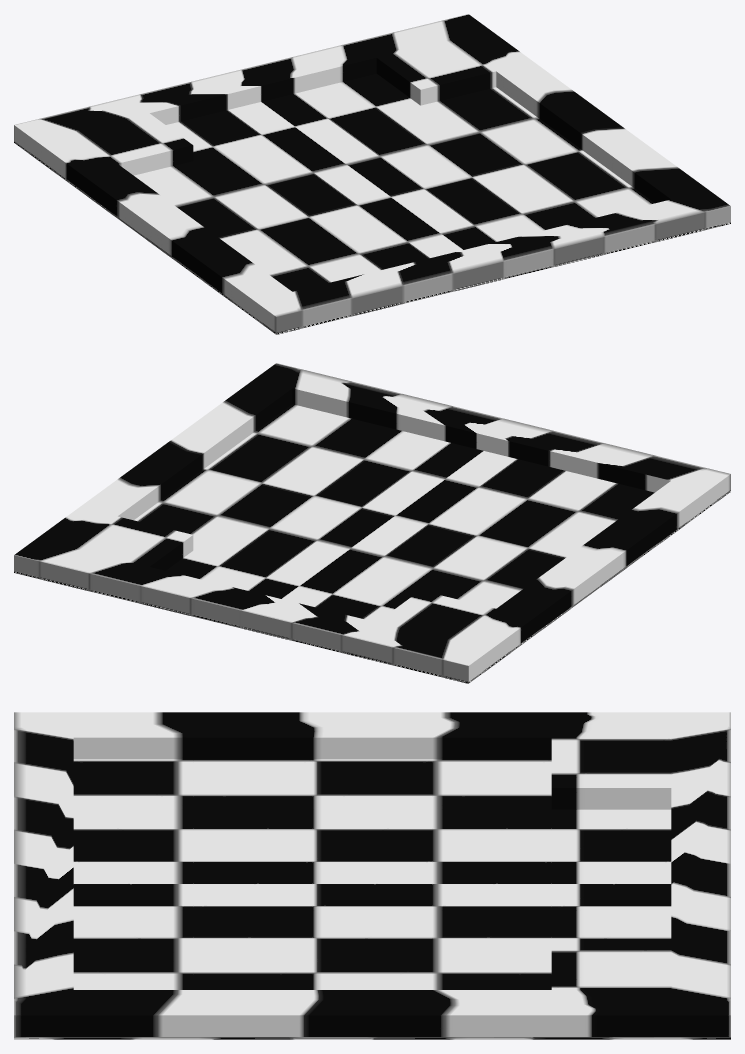
The picture shows the model from 3 angles, top to bottom: view 1: azimuth 30°, elevation 25°; view 2: azimuth 150°, elevation 25°; view 3: azimuth 270°, elevation 25°; orthographic projection. The views are drawn at different scales.
Parts seen in each view (by area): view 1: Base2; view 2: Base2; view 3: Base2.
Boxes of the visible parts, x1,y1,x2,y2 form: Base2: (14,14,730,334); Base2: (14,363,730,683); Base2: (14,712,730,1039).
Size of the model in its own units: 60 by 2.25 by 60.
